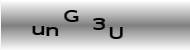3: (91, 17, 106, 30)
G: (62, 9, 80, 23)
U: (109, 25, 123, 40)
n: (46, 26, 60, 37)
u: (31, 25, 45, 36)
